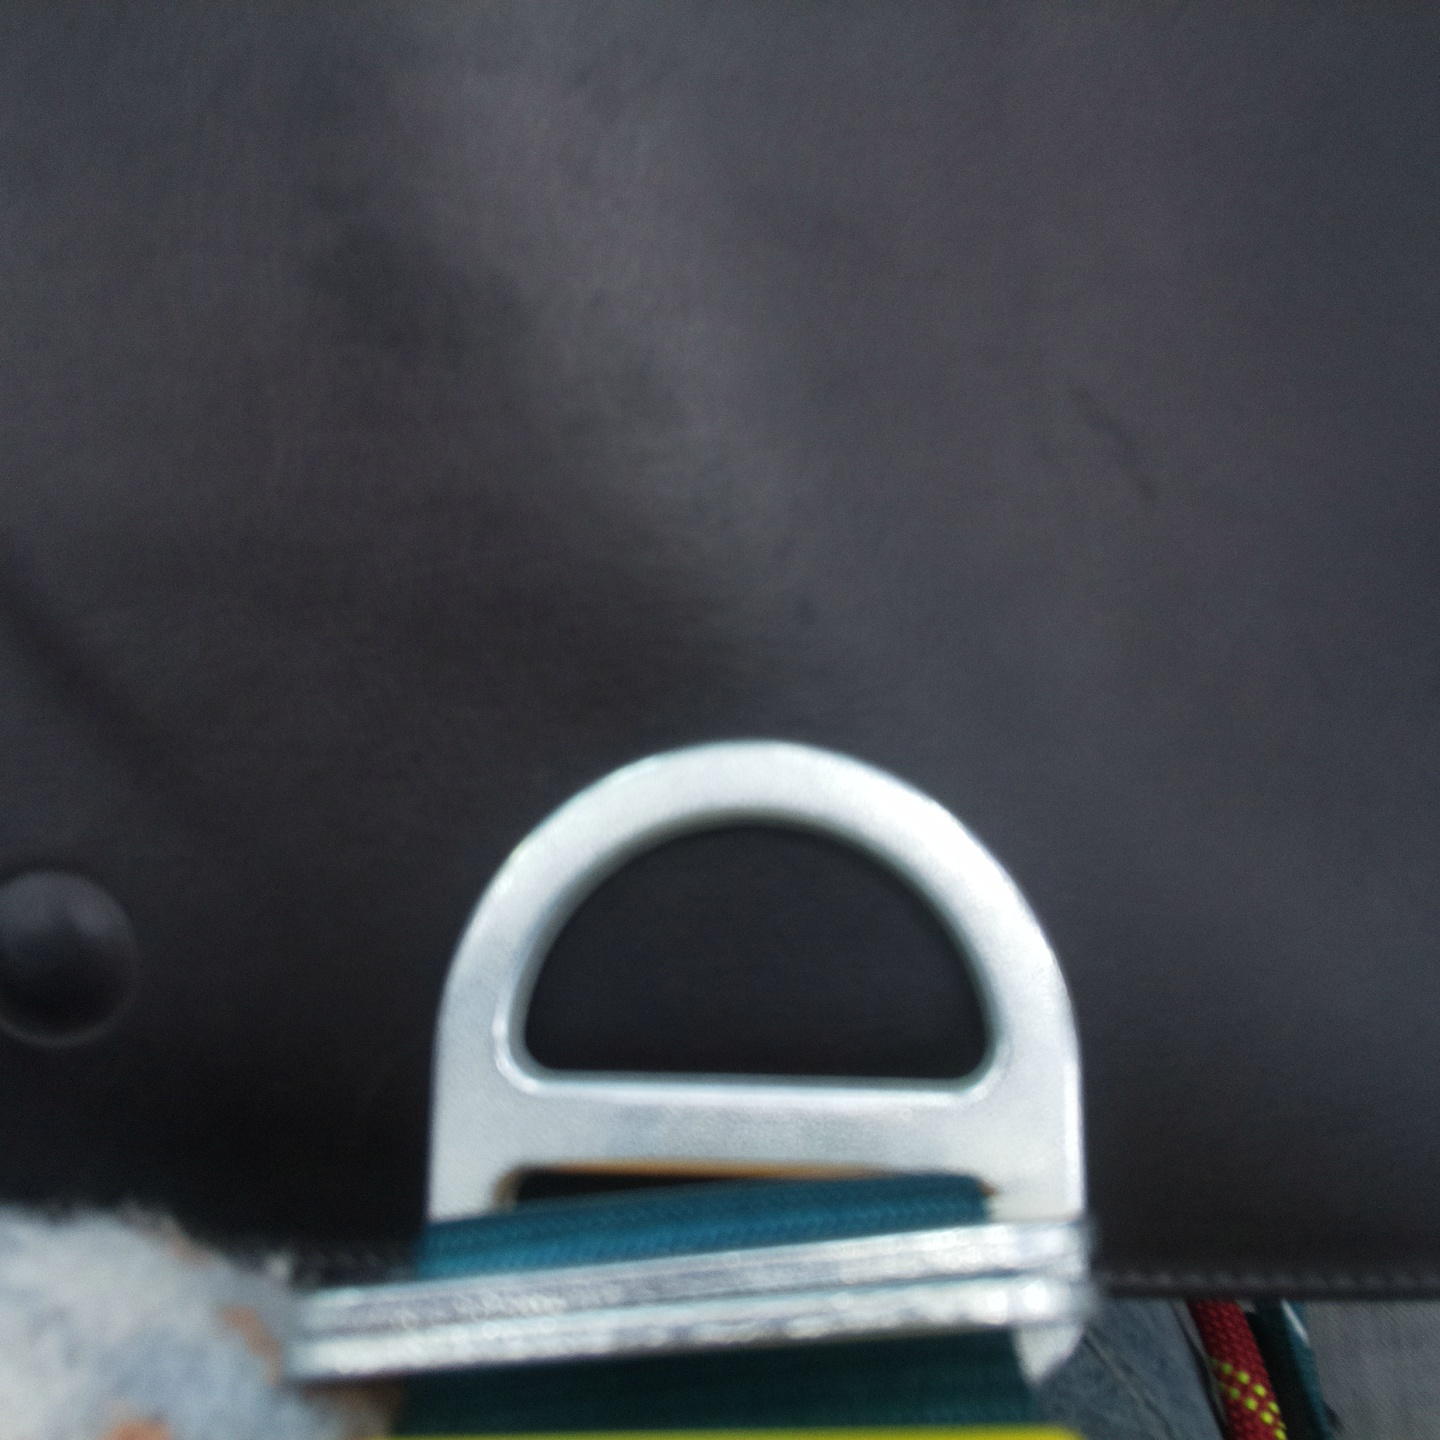UNSUCCESS: (415, 709, 1114, 1216)
